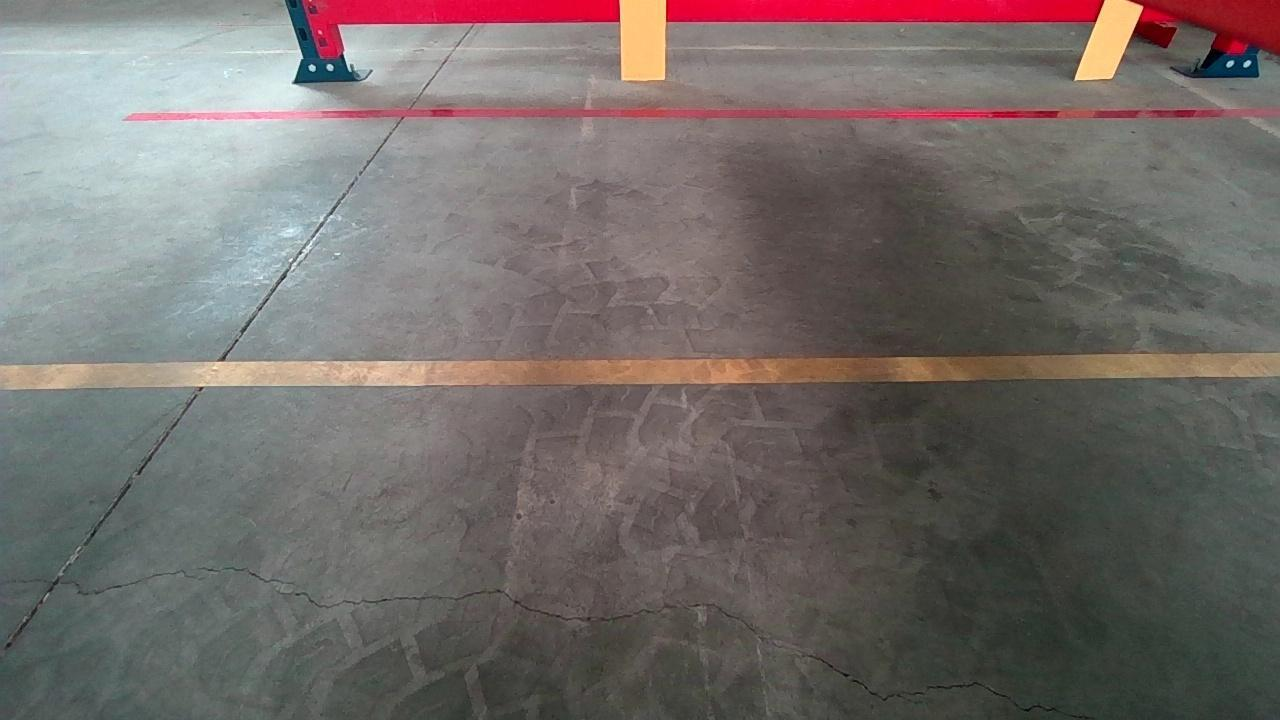h_rack: (325, 0, 1177, 25)
orange_strip: (1076, 0, 1146, 77), (620, 0, 668, 78)
red_line: (126, 105, 1280, 122)
yellow_line: (0, 351, 1280, 386)
